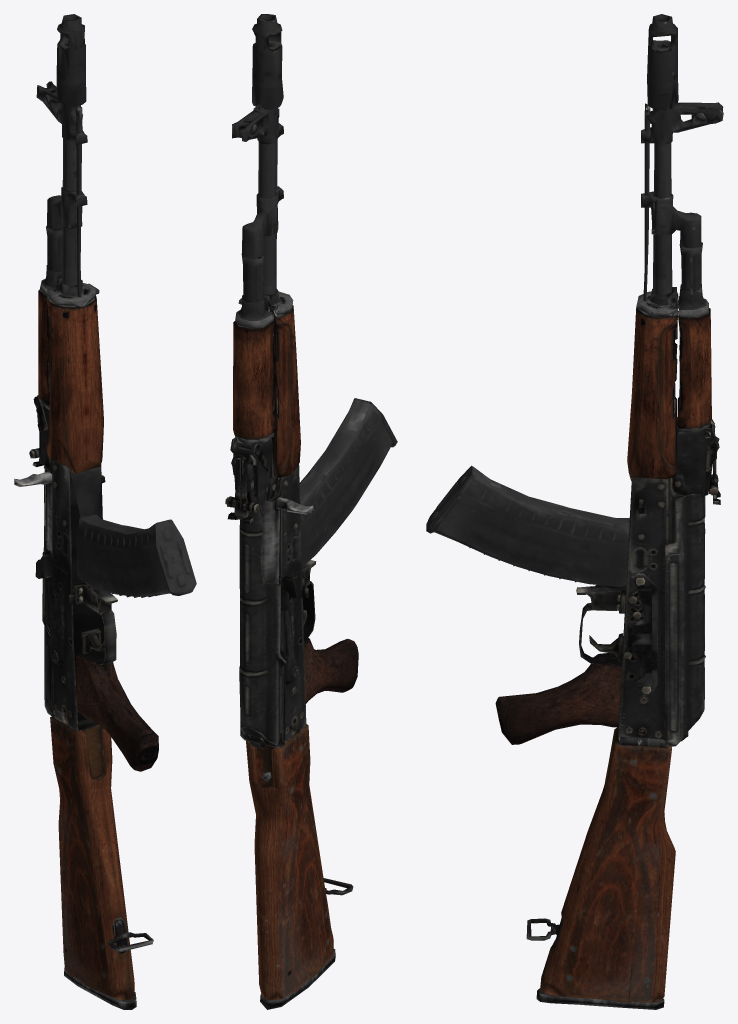
3 views of the same model, side by side, from view 1: azimuth 30°, elevation 25°; view 2: azimuth 150°, elevation 25°; view 3: azimuth 270°, elevation 25° (orthographic). The views are drawn at different scales.
Visible parts, largest first — view 1: AK74; view 2: AK74; view 3: AK74.
Part boxes in pixels (x1,y1,x2,y2): AK74: (14, 14, 196, 1009); AK74: (225, 14, 397, 1009); AK74: (426, 14, 723, 1009).
Size of the model in its own units: 0.0473 by 0.5838 by 0.1591.
